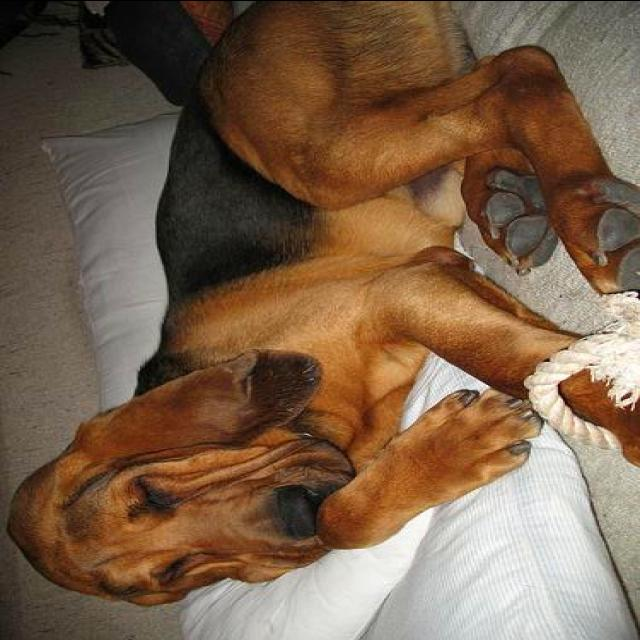bloodhound: (0, 2, 638, 612)
